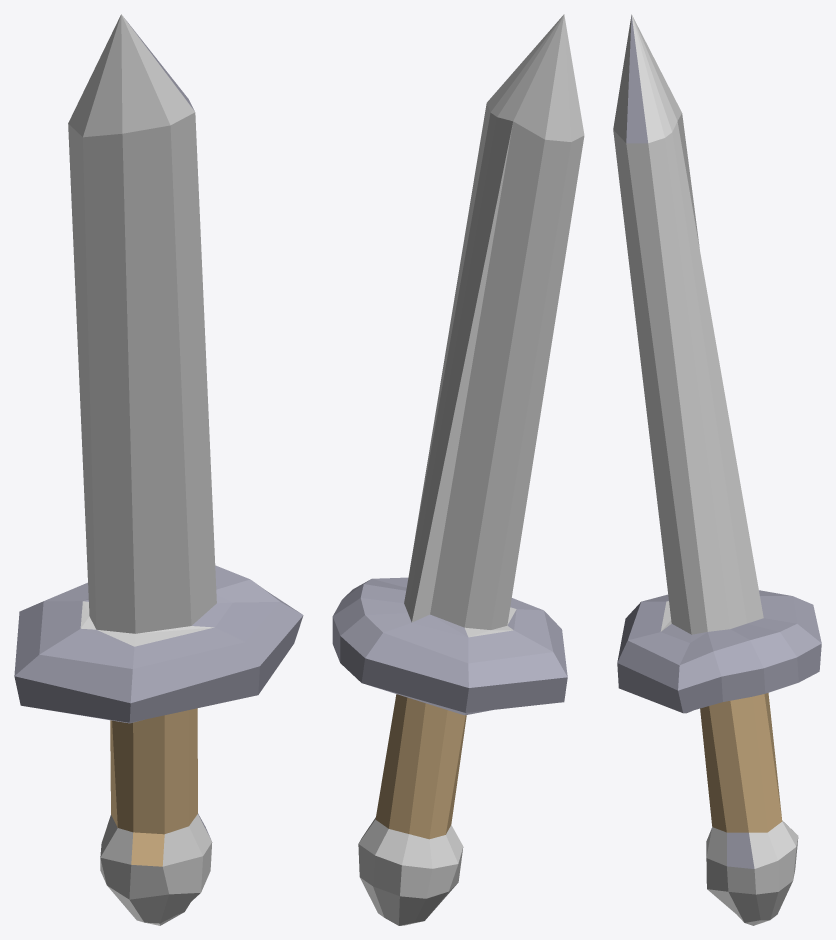
Rendered from sword.fbx.
3 views of the same model, side by side, from view 1: azimuth 30°, elevation 25°; view 2: azimuth 150°, elevation 25°; view 3: azimuth 270°, elevation 25° (orthographic). The views are drawn at different scales.
Visible parts, largest first — view 1: sword; view 2: sword; view 3: sword.
Part boxes in pixels (x1,y1,x2,y2): sword: [14, 14, 303, 925]; sword: [332, 14, 584, 925]; sword: [613, 14, 821, 925].
Bounding box in the file's own units: 8.8 × 31.5 × 6.88.
